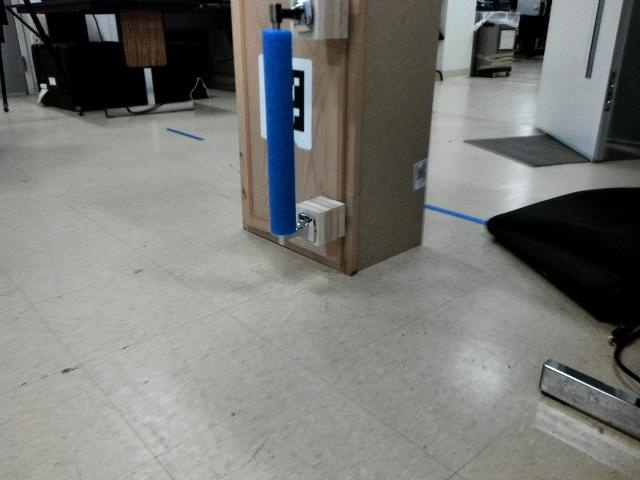noodle_handle: (256, 16, 304, 248)
